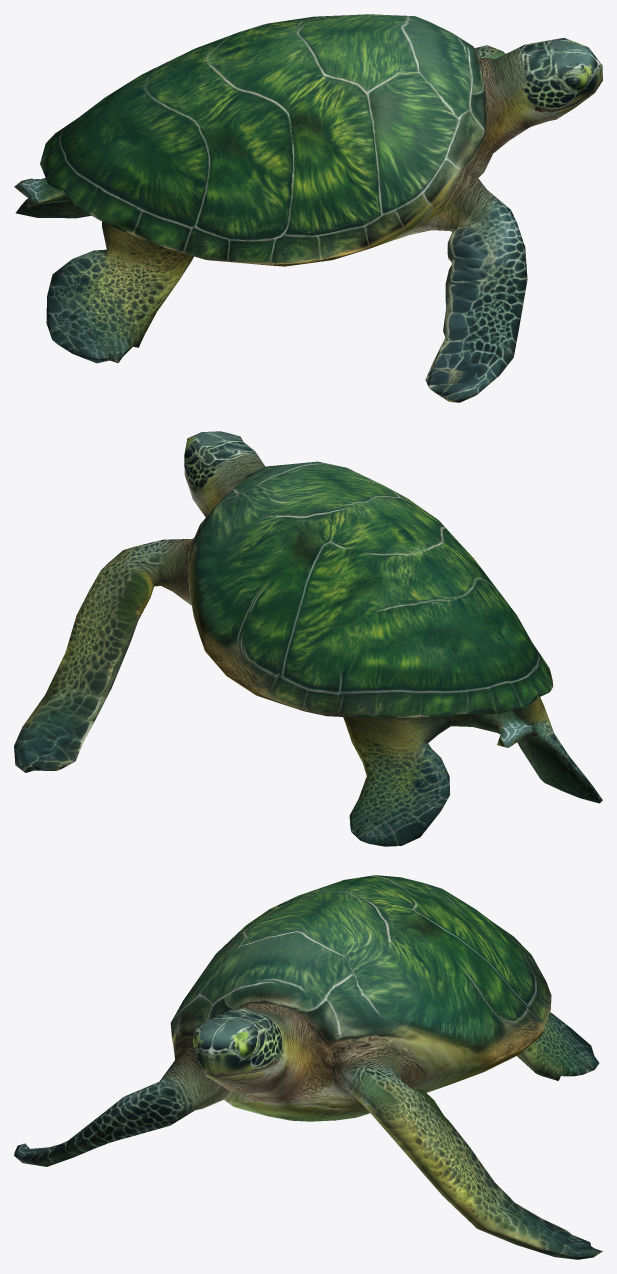
Rendered from turtle_single_1500.glb.
3 renders of one model, top to bottom at view 1: azimuth 30°, elevation 25°; view 2: azimuth 150°, elevation 25°; view 3: azimuth 270°, elevation 25°, orthographic. The views are drawn at different scales.
Bounding box in the file's own units: 0.8163 × 0.4184 × 0.8098.
1 material, 1 textured.
